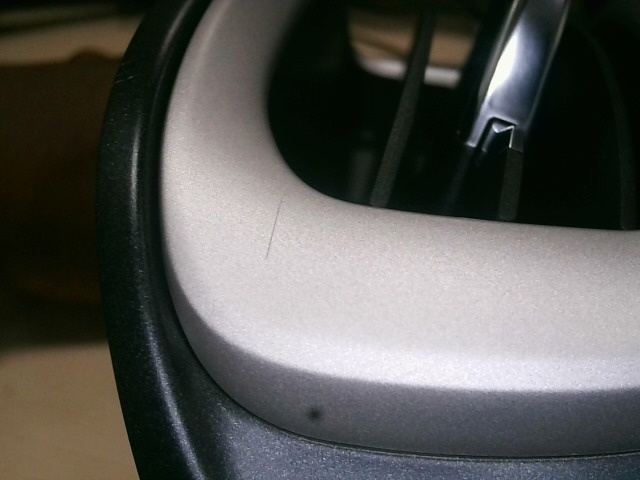NG: (254, 188, 294, 260), (114, 65, 143, 107)
